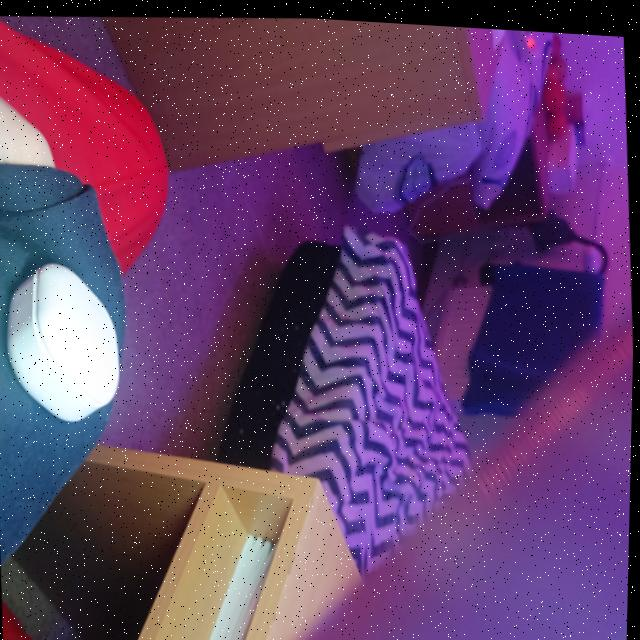headphones: (8, 263, 120, 420)
